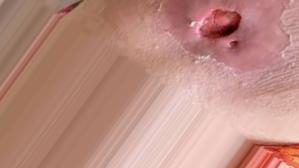Spider: (161, 0, 289, 71)
